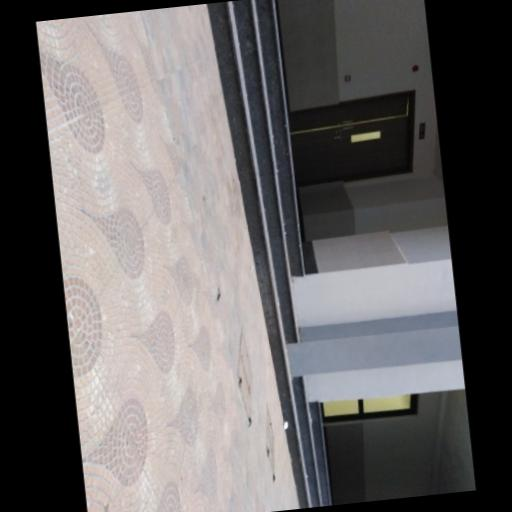stairs: (206, 0, 329, 508)
